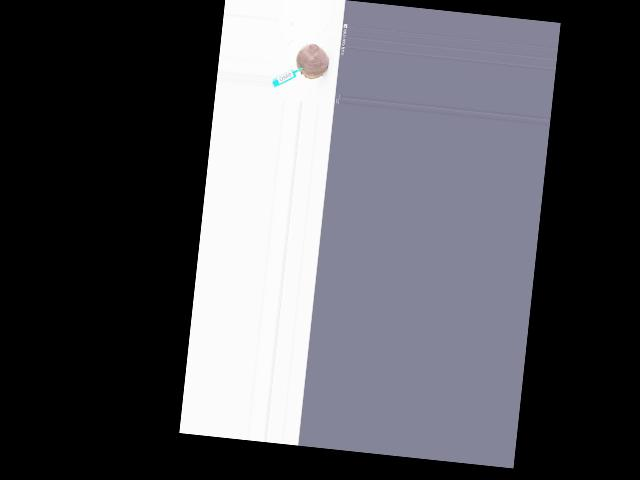beet: (294, 42, 330, 80)
